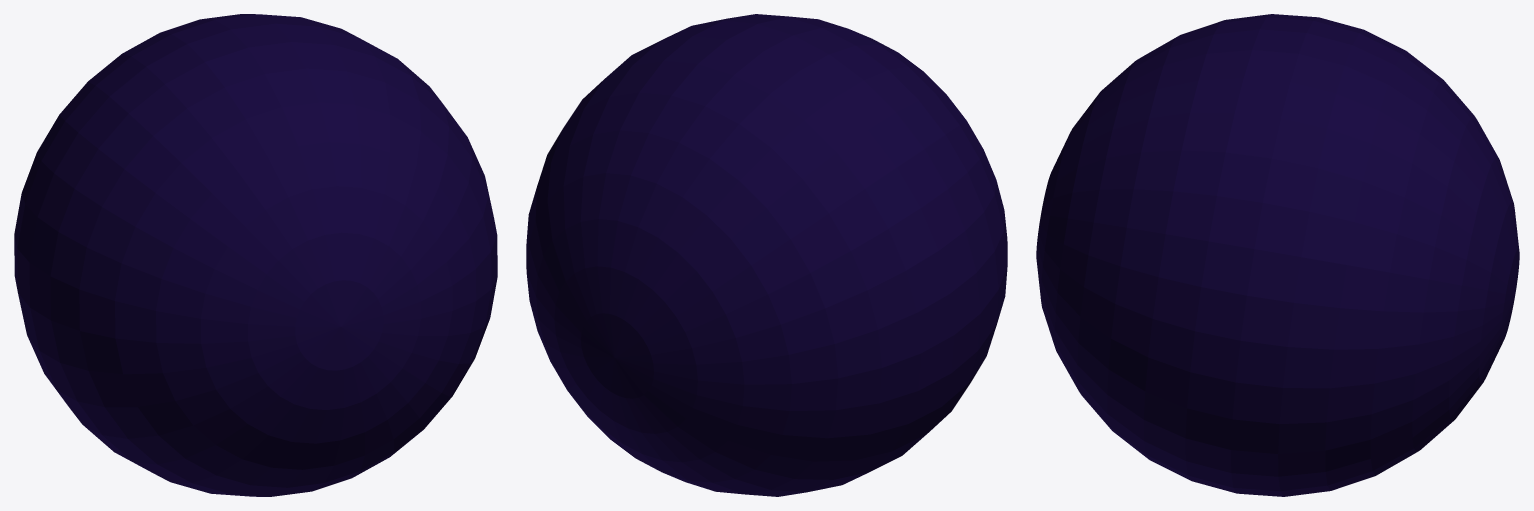
3 renders of one model, left to right at view 1: azimuth 30°, elevation 25°; view 2: azimuth 150°, elevation 25°; view 3: azimuth 270°, elevation 25°, orthographic.
Visible parts, largest first — view 1: Sphere.014; view 2: Sphere.014; view 3: Sphere.014.
Boxes of the visible parts, bbox=[...] form: Sphere.014: bbox=[14, 14, 497, 496]; Sphere.014: bbox=[526, 14, 1007, 496]; Sphere.014: bbox=[1036, 14, 1519, 496].
Bounding box in the file's own units: 200 × 199 × 200.
